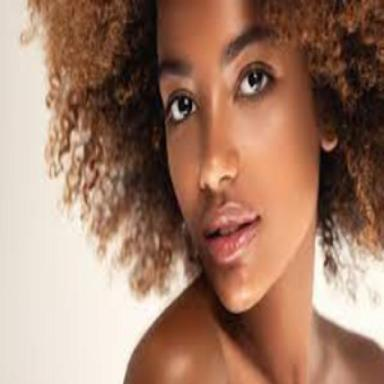normal skin: (125, 0, 384, 384)
